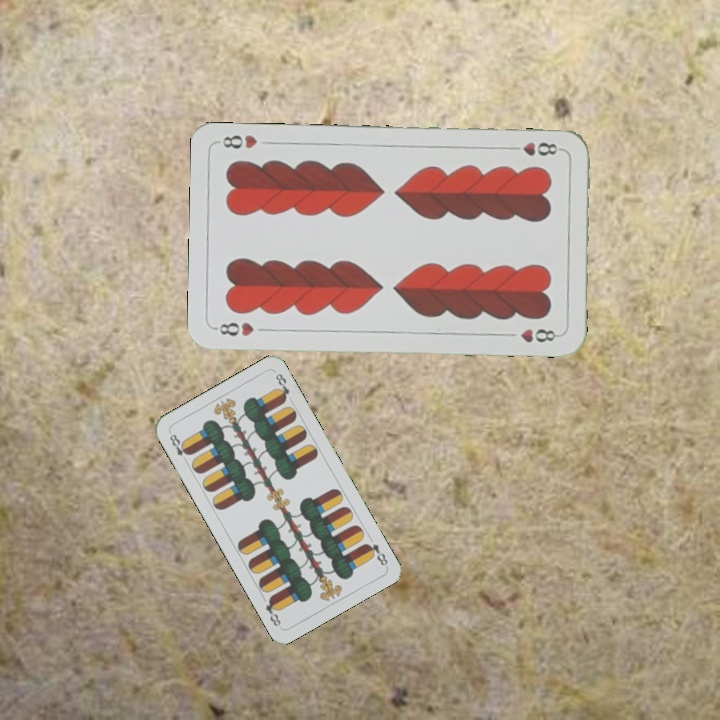E8: (165, 430, 193, 466), (361, 539, 390, 569)
H8: (505, 138, 564, 159), (212, 318, 257, 339)
